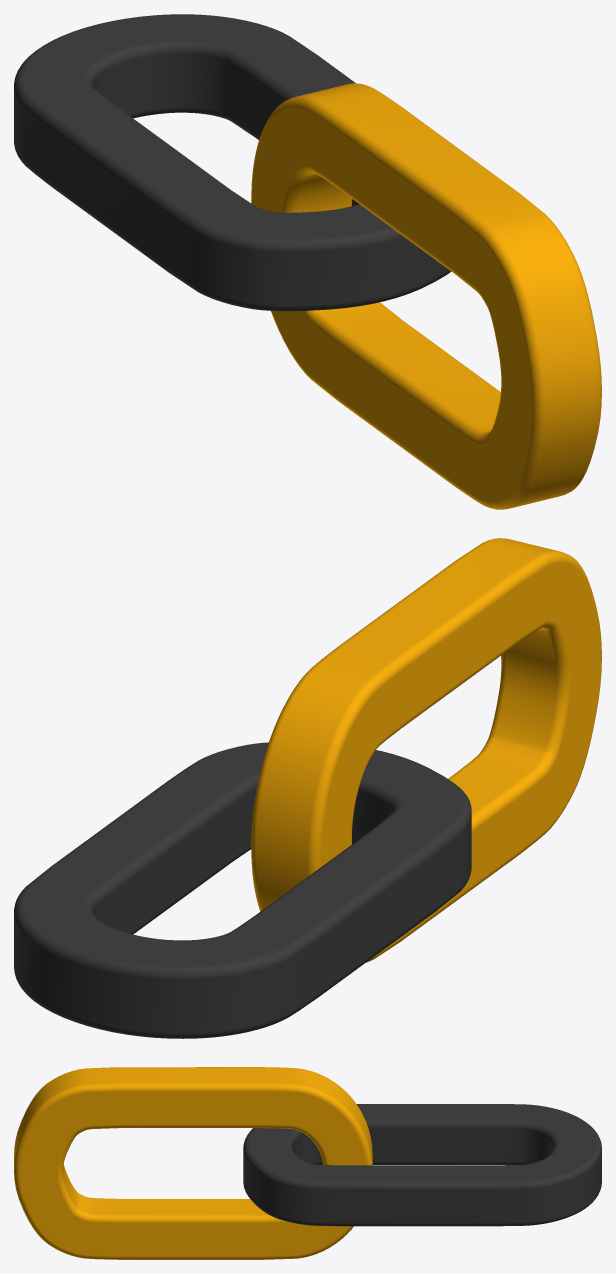
The model's file is AP_chain.glb.
3 views of the same model, one above another, from view 1: azimuth 30°, elevation 25°; view 2: azimuth 150°, elevation 25°; view 3: azimuth 270°, elevation 25° (orthographic). The views are drawn at different scales.
Parts seen in each view (by area): view 1: Sweep.002, Sweep.003; view 2: Sweep.003, Sweep.002; view 3: Sweep.002, Sweep.003.
Boxes of the visible parts, box(x1,y1,x2,y2) form: Sweep.002: box(251, 83, 601, 509); Sweep.003: box(14, 14, 451, 311); Sweep.003: box(14, 742, 471, 1038); Sweep.002: box(251, 538, 601, 962); Sweep.002: box(14, 1067, 372, 1259); Sweep.003: box(243, 1104, 601, 1226).
Size of the model in its own units: 1589 by 1589 by 4810.
